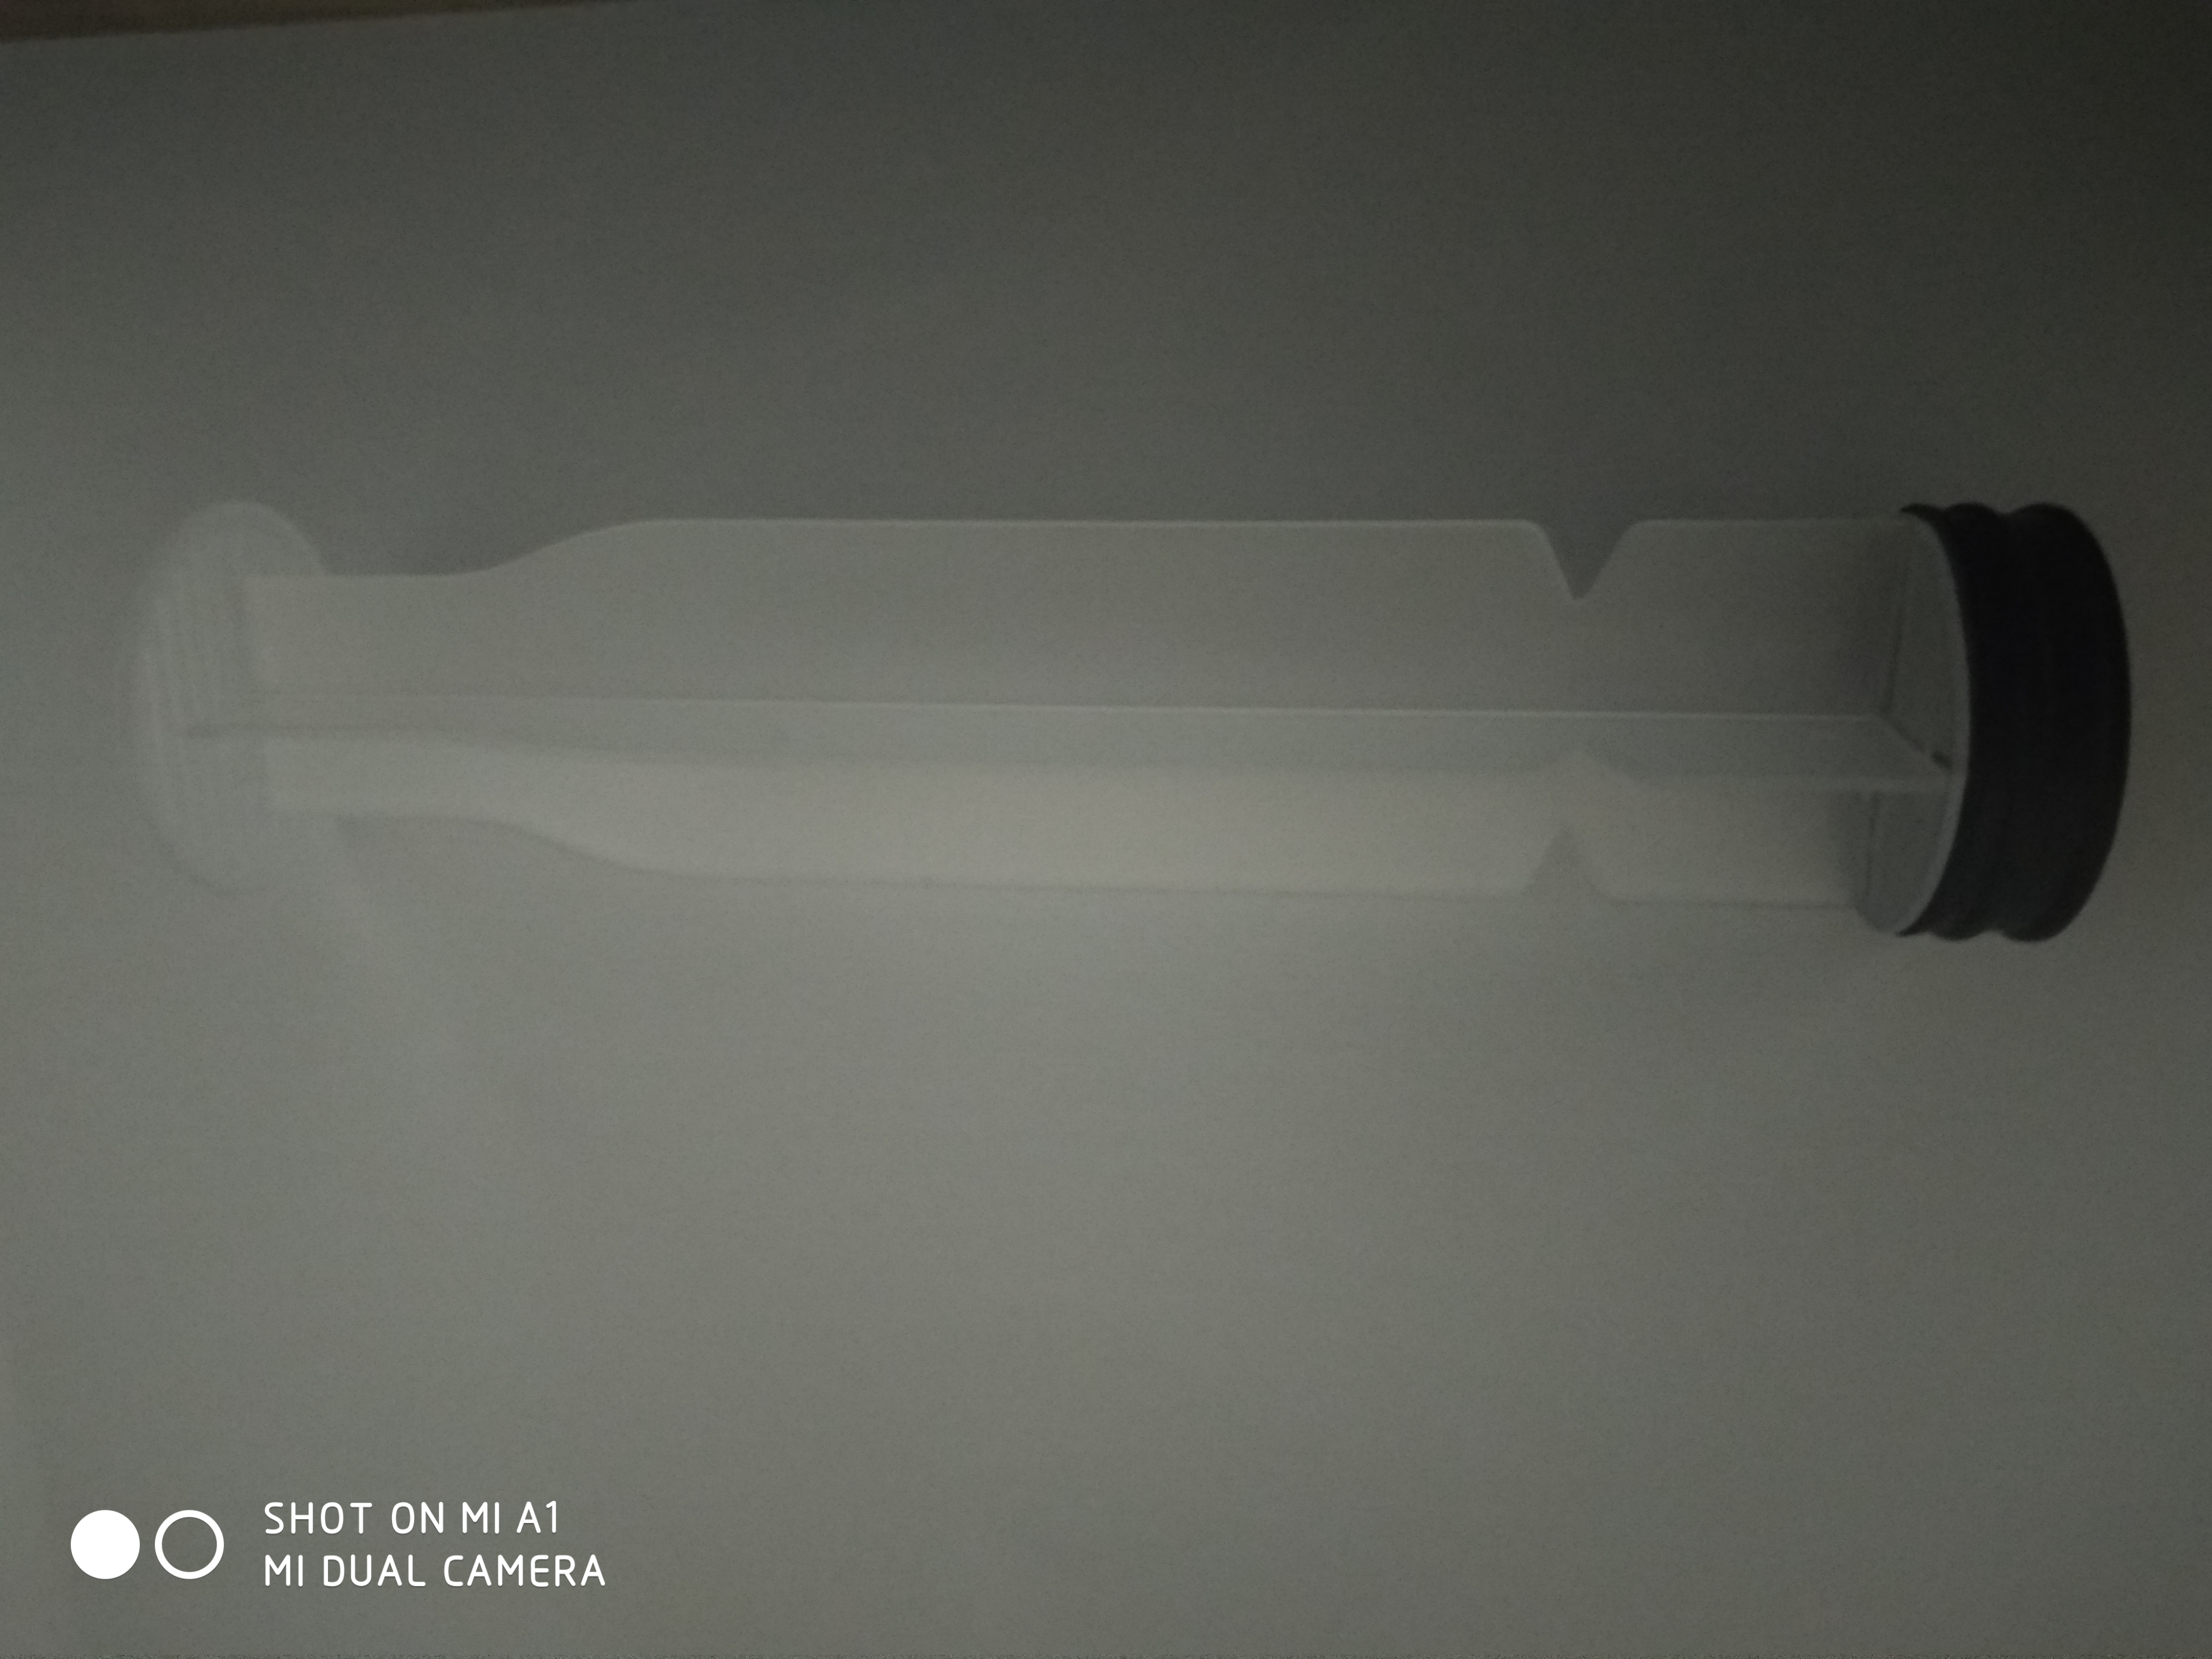plunger: (111, 490, 2141, 948)
